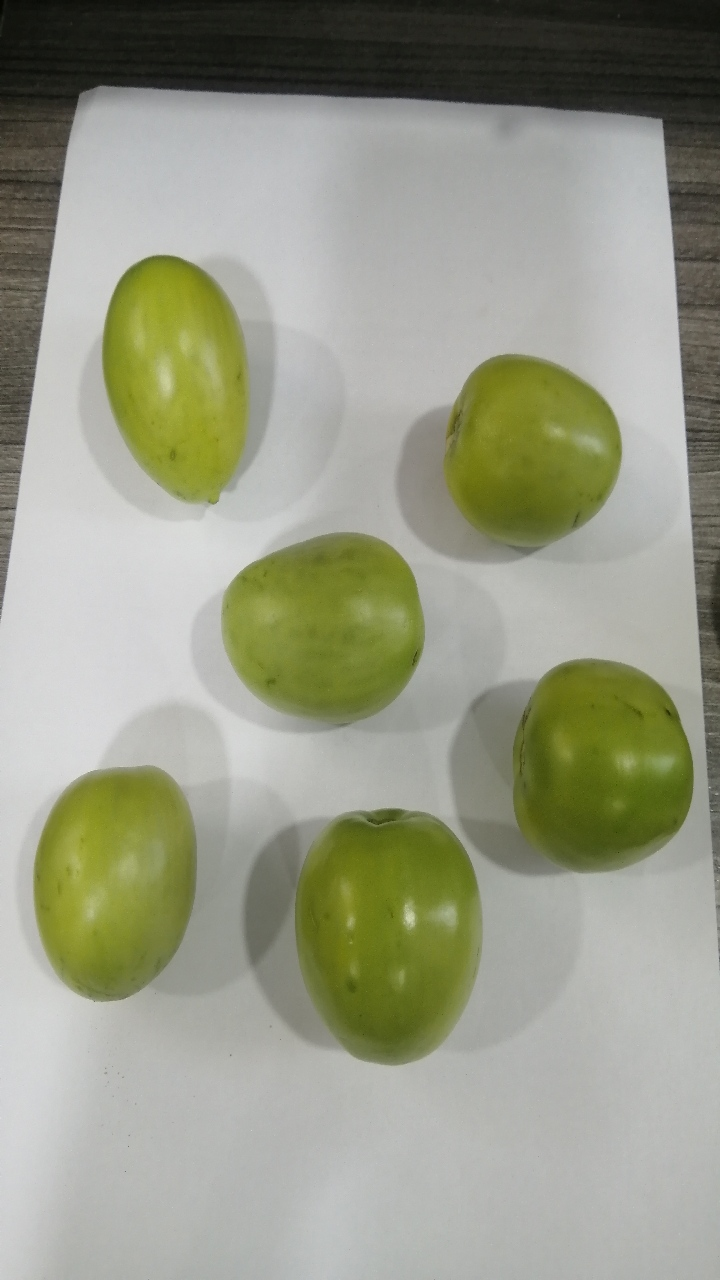tomateVerde: (268, 783, 488, 1083), (71, 237, 283, 534), (198, 505, 434, 757), (491, 643, 704, 914), (426, 328, 643, 580), (12, 746, 209, 1020)
